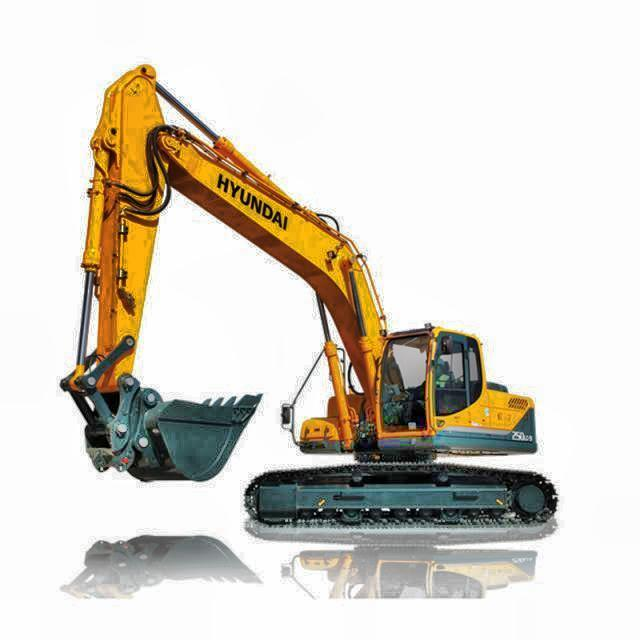excavator: (58, 60, 561, 533)
